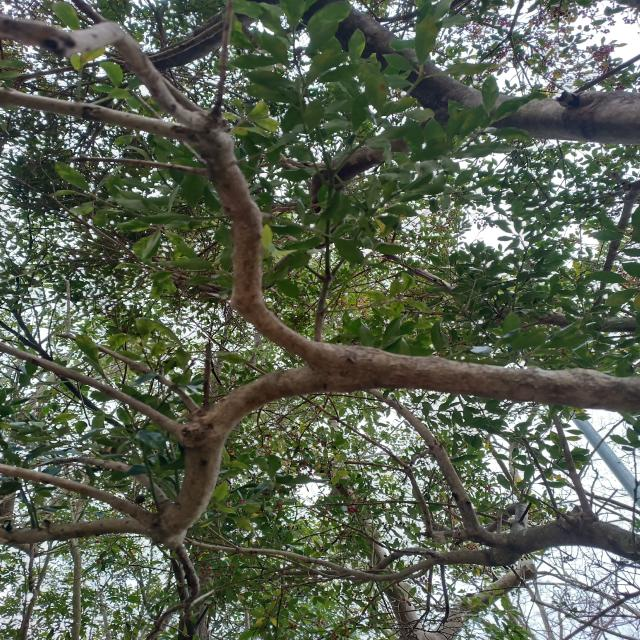Branch: (175, 109, 318, 361), (147, 368, 305, 552), (304, 344, 640, 416), (270, 0, 468, 104), (425, 90, 640, 146), (498, 513, 640, 567), (439, 547, 504, 567)
Twig: (369, 389, 504, 548), (0, 18, 193, 121), (191, 541, 438, 582), (0, 87, 175, 139), (367, 548, 436, 574)
